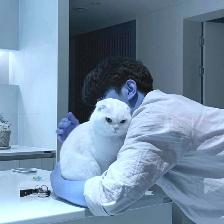kedo: (66, 98, 131, 180)
